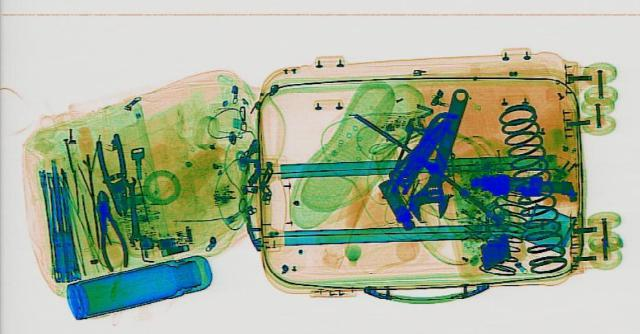Pliers: (84, 187, 132, 268), (92, 133, 134, 215)
Wrench: (400, 85, 482, 221), (122, 175, 140, 243)
